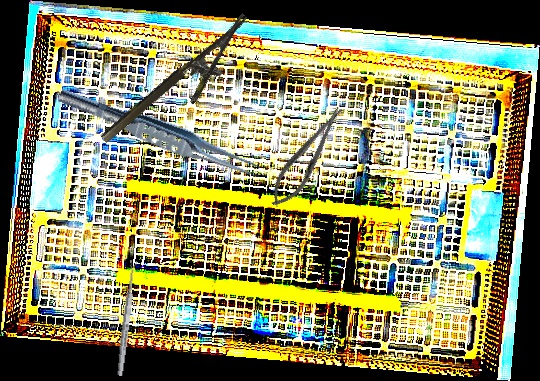Needle Holder: (98, 13, 268, 163), (262, 100, 353, 214)
Surgical Spoon: (115, 259, 139, 377)
Tissue Forceps: (54, 83, 266, 184)
